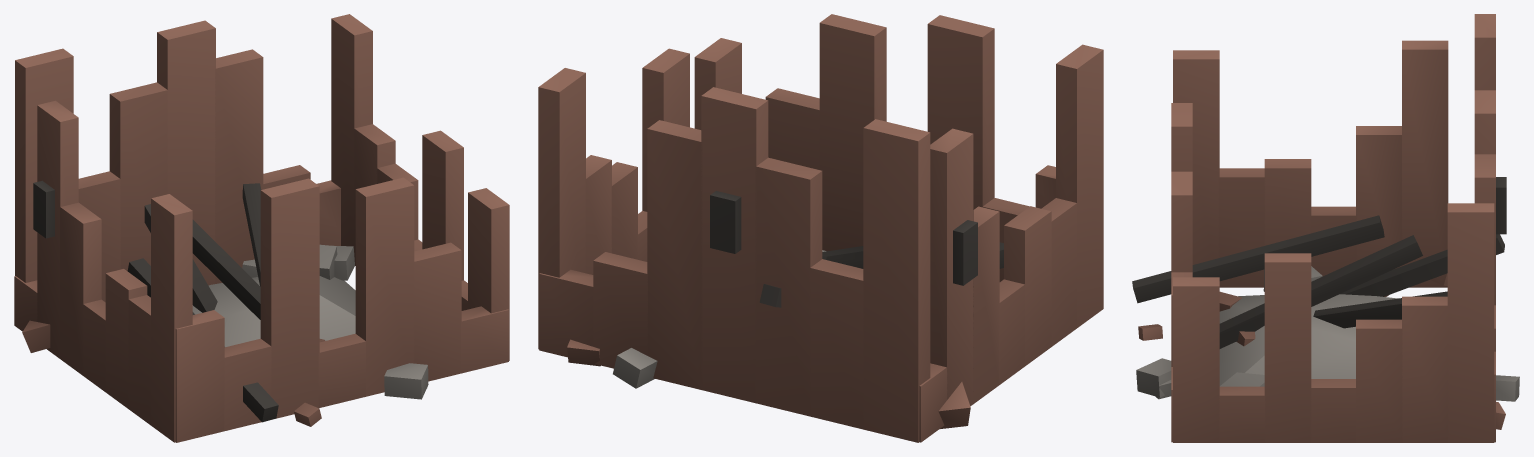
File: ruin_brick.glb
The picture shows the model from 3 angles, left to right: view 1: azimuth 30°, elevation 25°; view 2: azimuth 150°, elevation 25°; view 3: azimuth 270°, elevation 25°; orthographic projection. The views are drawn at different scales.
Parts seen in each view (by area): view 1: Body_Detail; view 2: Body_Detail; view 3: Body_Detail.
Boxes of the visible parts, box(x1,y1,x2,y2) form: Body_Detail: box(14, 14, 509, 442); Body_Detail: box(538, 14, 1103, 442); Body_Detail: box(1132, 14, 1519, 442).
Size of the model in its own units: 0.9587 by 0.6948 by 0.9078.
